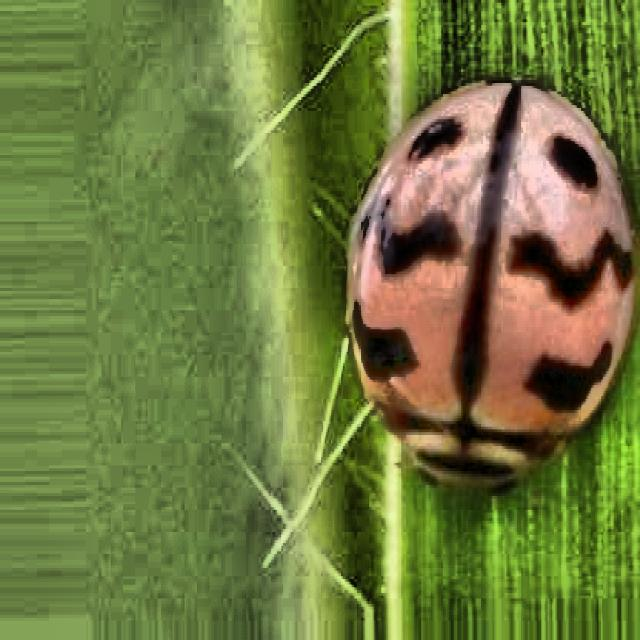Asian-Lady-beetle: (308, 25, 640, 544)
